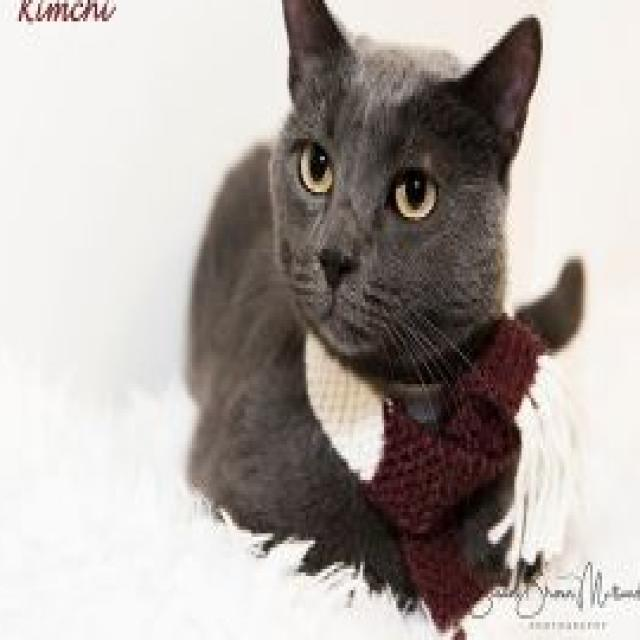Russian Blue: (178, 0, 588, 622)
